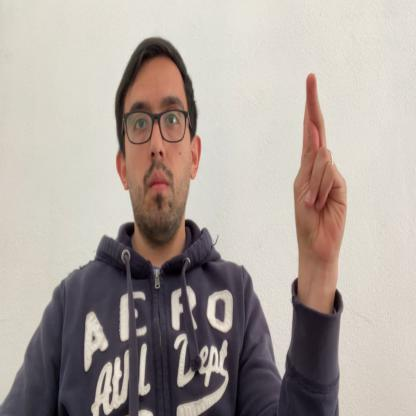P: (292, 71, 348, 270)
